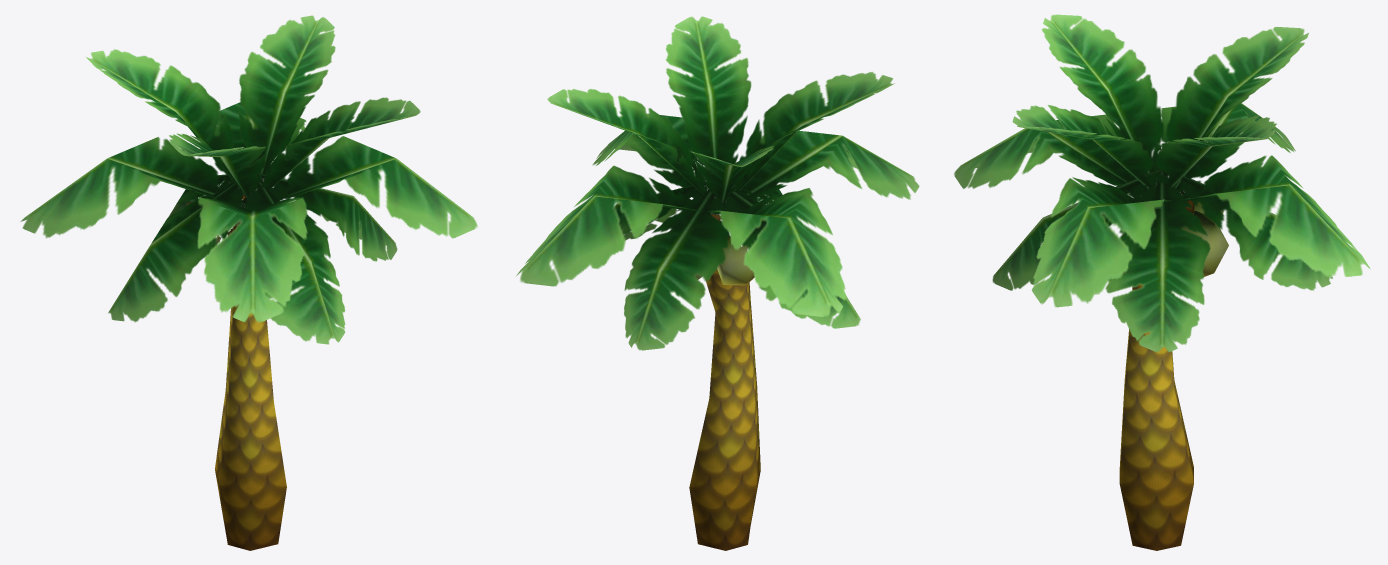
The model's file is palm_tree.glb.
The picture shows the model from 3 angles, left to right: view 1: azimuth 30°, elevation 25°; view 2: azimuth 150°, elevation 25°; view 3: azimuth 270°, elevation 25°; orthographic projection. The views are drawn at different scales.
Visible parts, largest first — view 1: Mdl_0_Mtl_Cmn_Tree3; view 2: Mdl_0_Mtl_Cmn_Tree3; view 3: Mdl_0_Mtl_Cmn_Tree3.
Part boxes in pixels (x1,y1,x2,y2): Mdl_0_Mtl_Cmn_Tree3: (20, 15, 477, 550); Mdl_0_Mtl_Cmn_Tree3: (516, 16, 919, 550); Mdl_0_Mtl_Cmn_Tree3: (954, 14, 1370, 550).
Bounding box in the file's own units: 235 × 289 × 240.
1 material, 1 textured.
